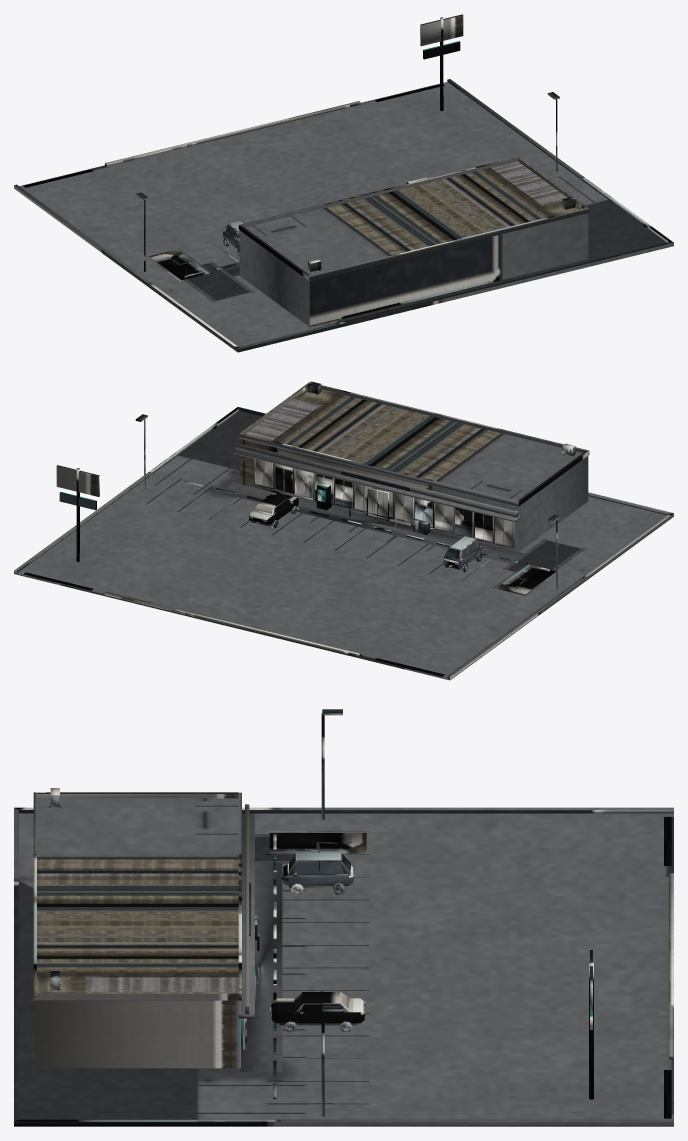
The model's file is convenience_roadside_001.lod1.obj.
3 renders of one model, top to bottom at view 1: azimuth 30°, elevation 25°; view 2: azimuth 150°, elevation 25°; view 3: azimuth 270°, elevation 25°, orthographic. The views are drawn at different scales.
Visible parts, largest first — view 1: convenience_roadside_001; view 2: convenience_roadside_001; view 3: convenience_roadside_001.
Part boxes in pixels (x1,y1,x2,y2): convenience_roadside_001: (14,14,673,352); convenience_roadside_001: (14,381,673,680); convenience_roadside_001: (14,709,673,1126).
Bounding box in the file's own units: 36 × 7.4 × 32.
1 material, 1 textured.
